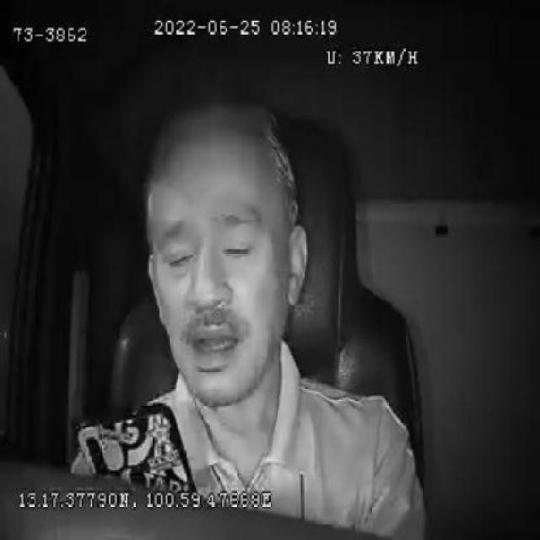phone: (72, 400, 195, 488)
